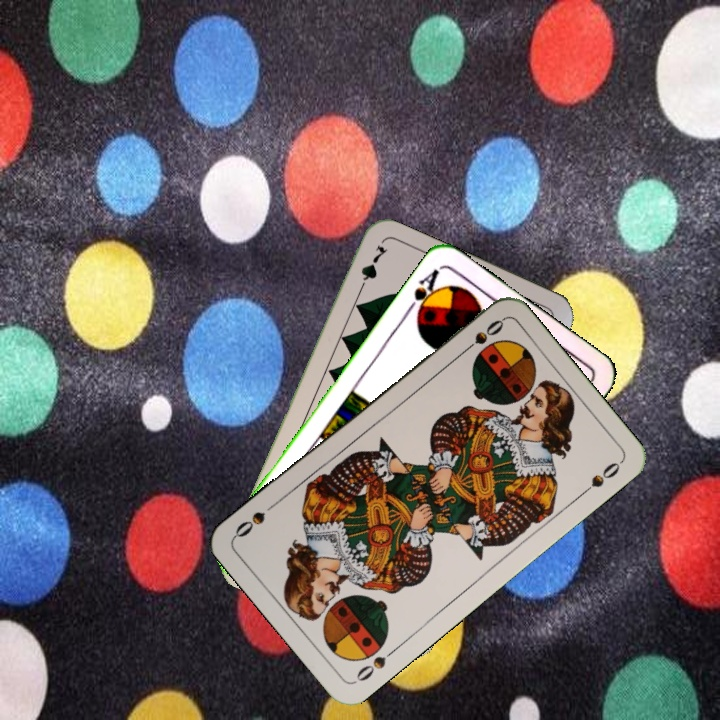G7: (354, 241, 391, 297)
SA: (402, 264, 444, 322)
SO: (456, 315, 507, 358), (351, 643, 400, 686)
